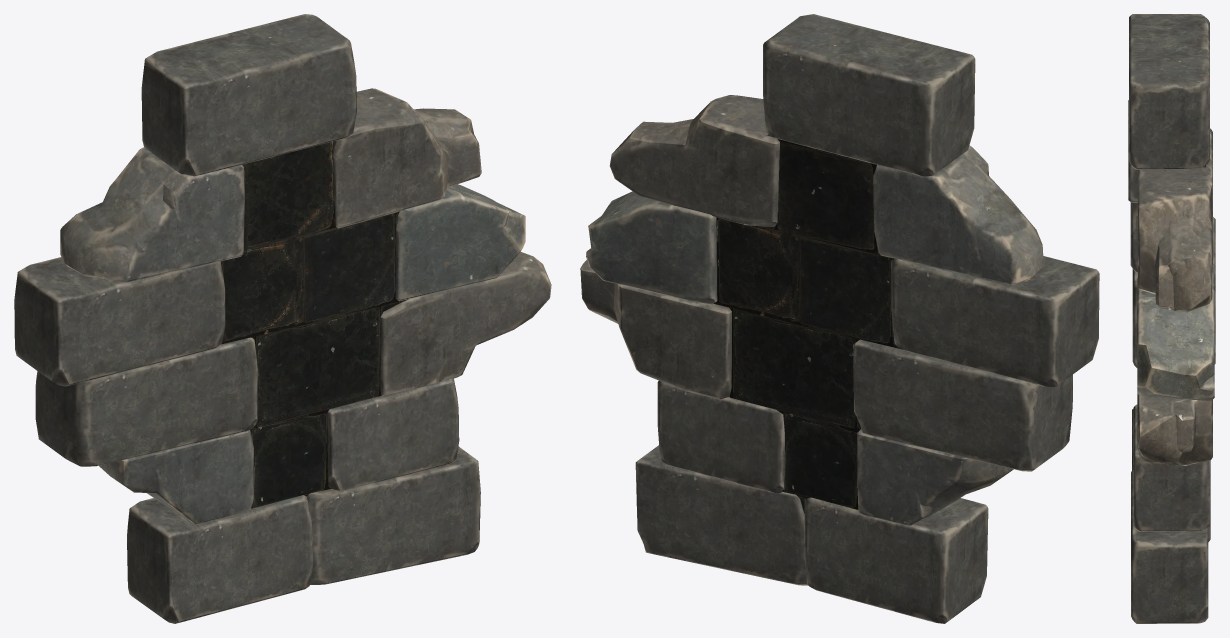
3 renders of one model, left to right at view 1: azimuth 30°, elevation 25°; view 2: azimuth 150°, elevation 25°; view 3: azimuth 270°, elevation 25°, orthographic. The views are drawn at different scales.
Visible parts, largest first — view 1: SM_SaradominTemple_Wall_Rubble_01v2_LOD0; view 2: SM_SaradominTemple_Wall_Rubble_01v2_LOD0; view 3: SM_SaradominTemple_Wall_Rubble_01v2_LOD0.
Boxes of the visible parts, left/top/right/bottom form: SM_SaradominTemple_Wall_Rubble_01v2_LOD0: left=14, top=14, right=551, bottom=623; SM_SaradominTemple_Wall_Rubble_01v2_LOD0: left=580, top=14, right=1099, bottom=623; SM_SaradominTemple_Wall_Rubble_01v2_LOD0: left=1128, top=14, right=1215, bottom=623.
Size of the model in its own units: 3.97 by 4.11 by 0.6714.
2 materials, 2 textured.
